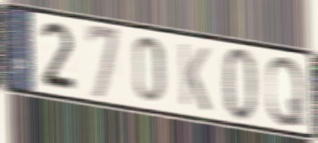0: (222, 46, 258, 124), (132, 34, 167, 107)
2: (38, 21, 78, 95)
7: (84, 21, 122, 103)
K: (177, 40, 212, 115)
Q: (265, 54, 306, 129)
